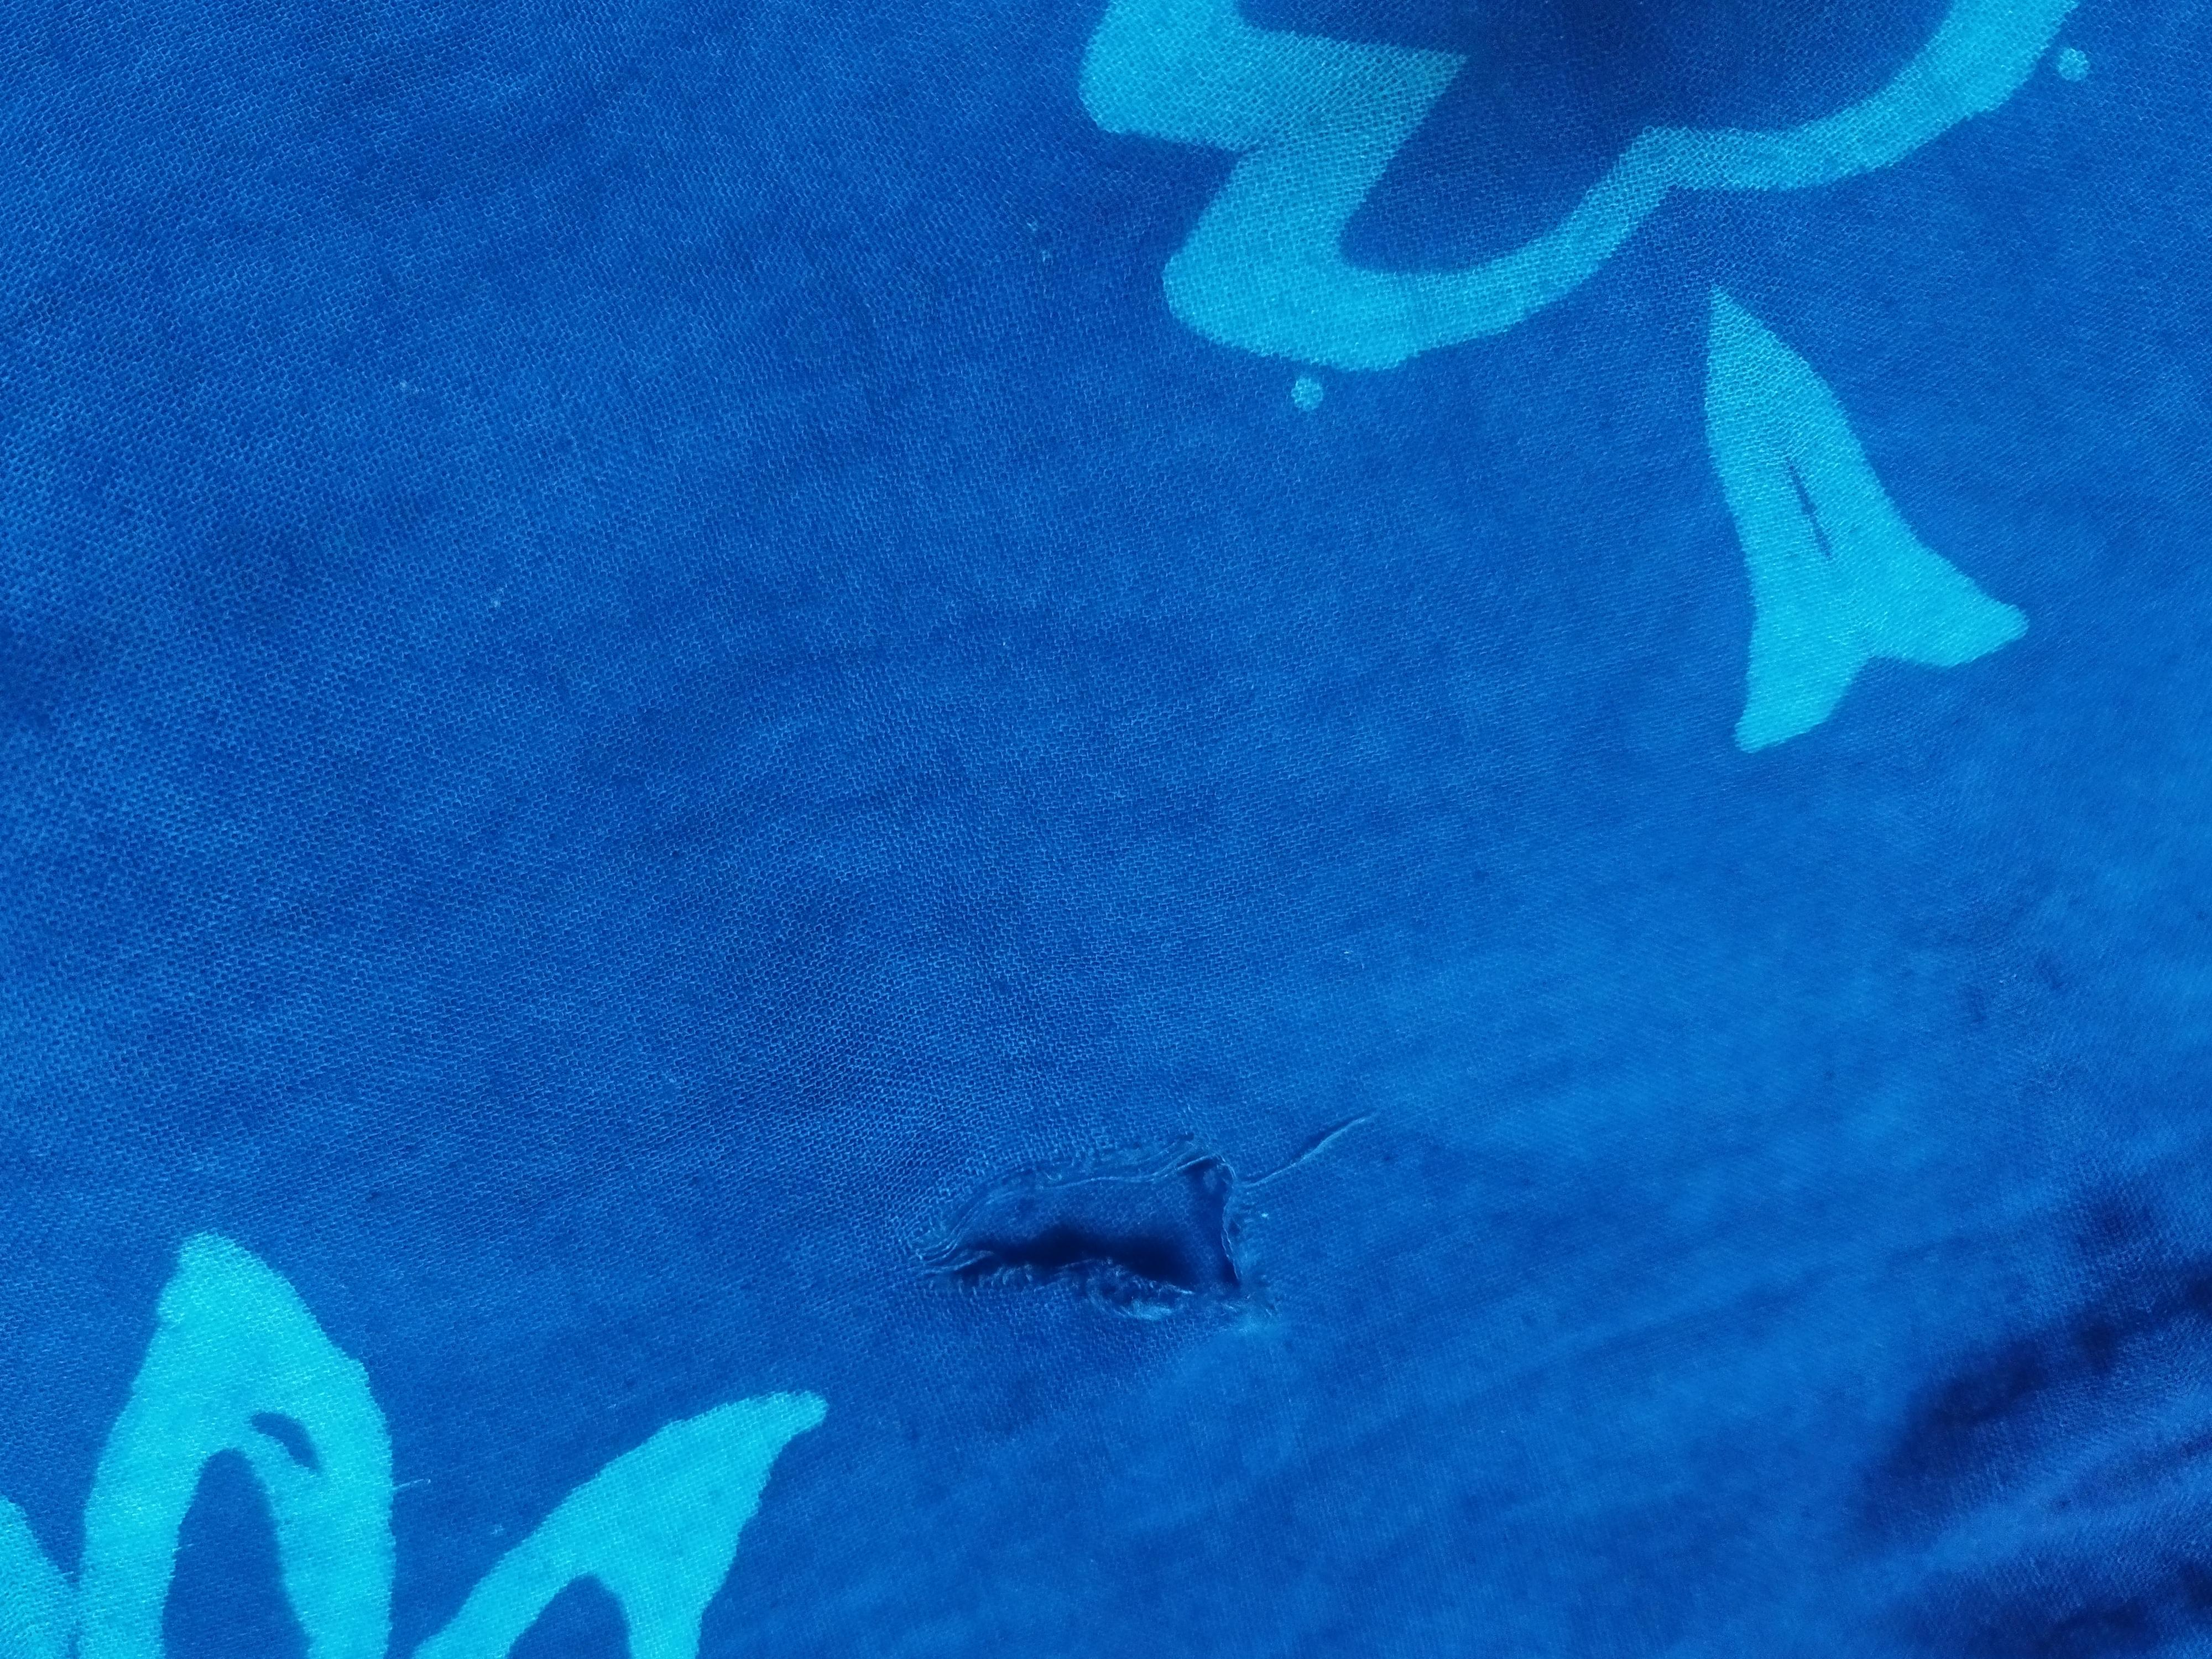hole: (902, 1101, 1298, 1375)
